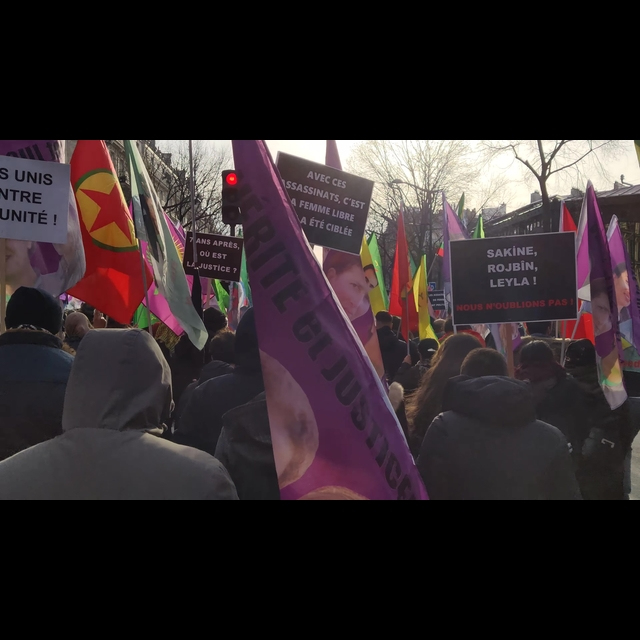PKK: (72, 157, 135, 267)
